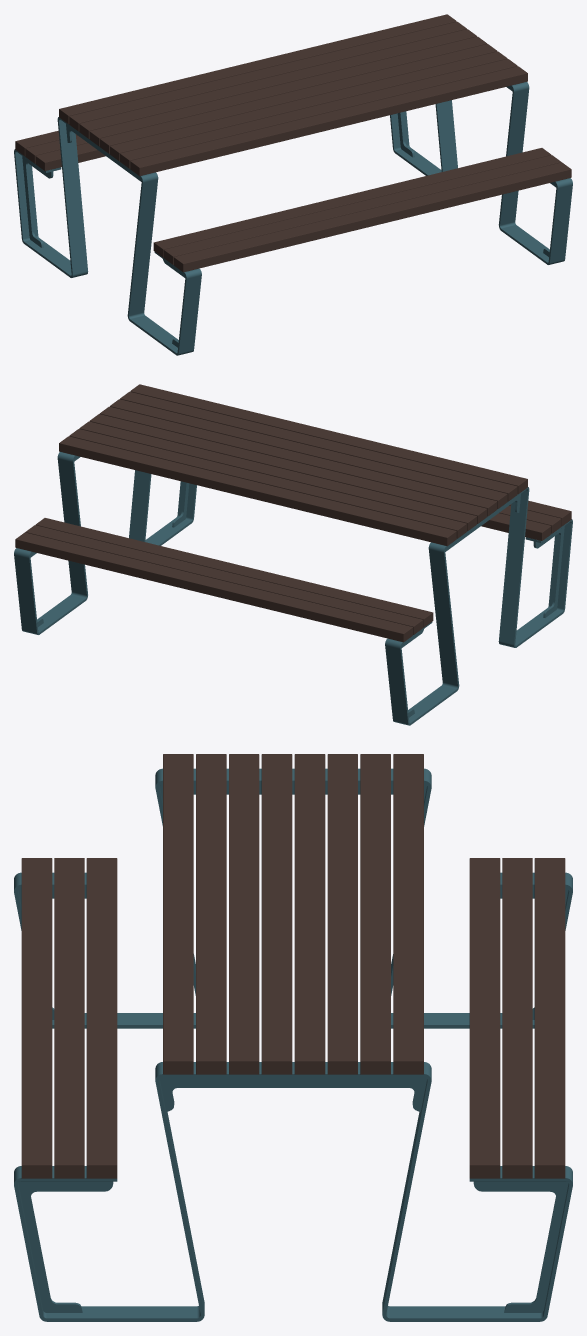
Rendered from G5_std.glb.
3 views of the same model, one above another, from view 1: azimuth 30°, elevation 25°; view 2: azimuth 150°, elevation 25°; view 3: azimuth 270°, elevation 25° (orthographic). The views are drawn at different scales.
Parts seen in each view (by area): view 1: G5_std; view 2: G5_std; view 3: G5_std.
Boxes of the visible parts, x1,y1,x2,y2 form: G5_std: (14,14,572,355); G5_std: (14,384,572,725); G5_std: (14,754,572,1321).
Size of the model in its own units: 1.9 by 0.755 by 1.46.
